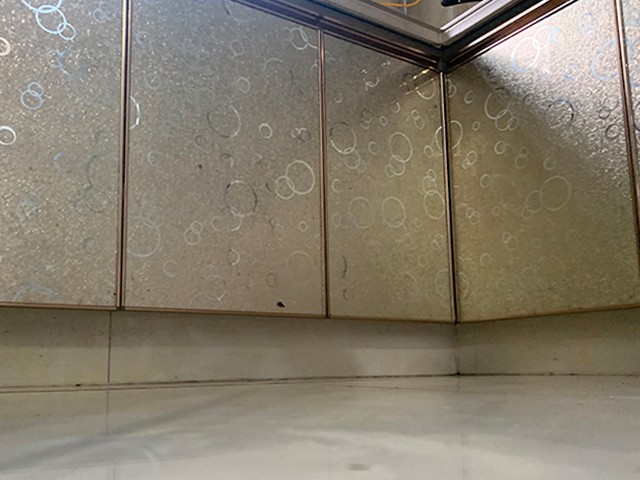cabinet: (1, 1, 456, 385), (456, 1, 640, 375)
